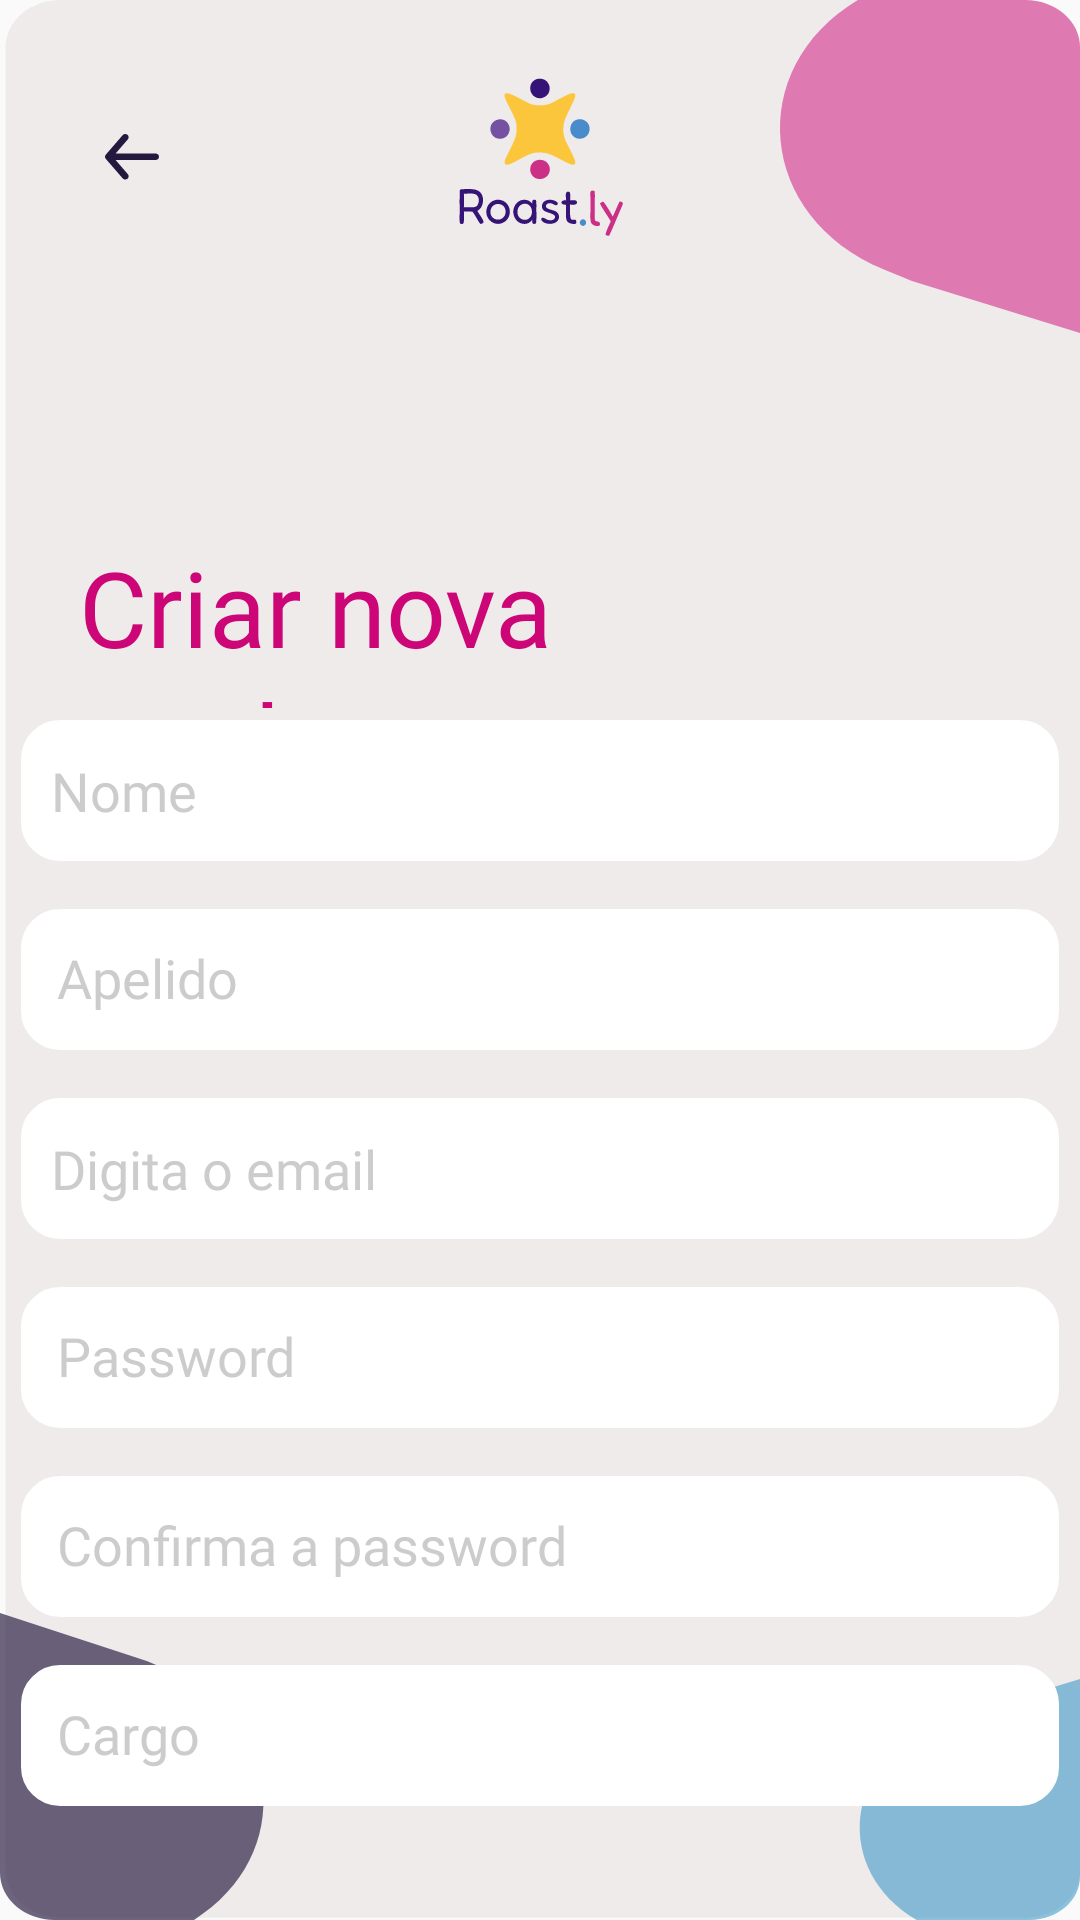

Named icons in this screenshot (1080px×1920px) and their bounding boxes, (x1, y1, x2, y2):
icon back: (105, 134, 159, 180)
